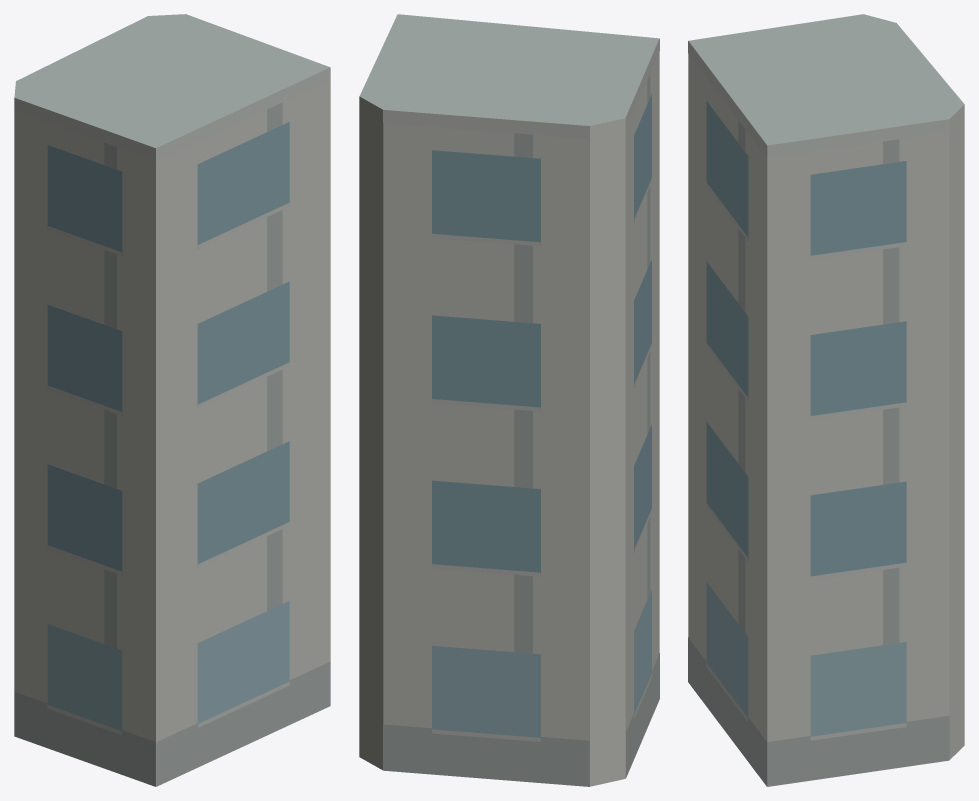
The model's file is survey-upis-32975378.glb.
3 views of the same model, side by side, from view 1: azimuth 30°, elevation 25°; view 2: azimuth 150°, elevation 25°; view 3: azimuth 270°, elevation 25° (orthographic). The views are drawn at different scales.
Visible parts, largest first — view 1: survey-upis-32975378.tmp; view 2: survey-upis-32975378.tmp; view 3: survey-upis-32975378.tmp.
Part boxes in pixels (left/top/right/bottom): survey-upis-32975378.tmp: left=14, top=14, right=330, bottom=786; survey-upis-32975378.tmp: left=359, top=14, right=659, bottom=786; survey-upis-32975378.tmp: left=688, top=14, right=964, bottom=786.
Size of the model in its own units: 5.37 by 12.2 by 4.77.
